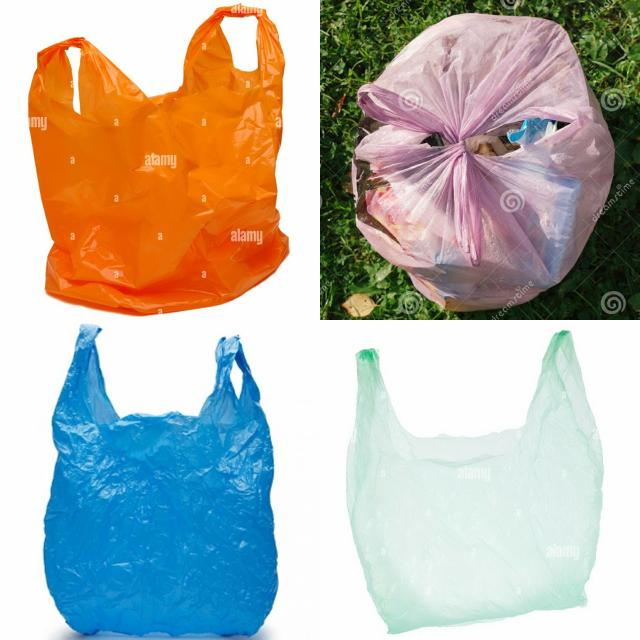Single-layer Plastic: (29, 5, 289, 315), (352, 14, 614, 311), (348, 331, 602, 632), (44, 325, 278, 635)
